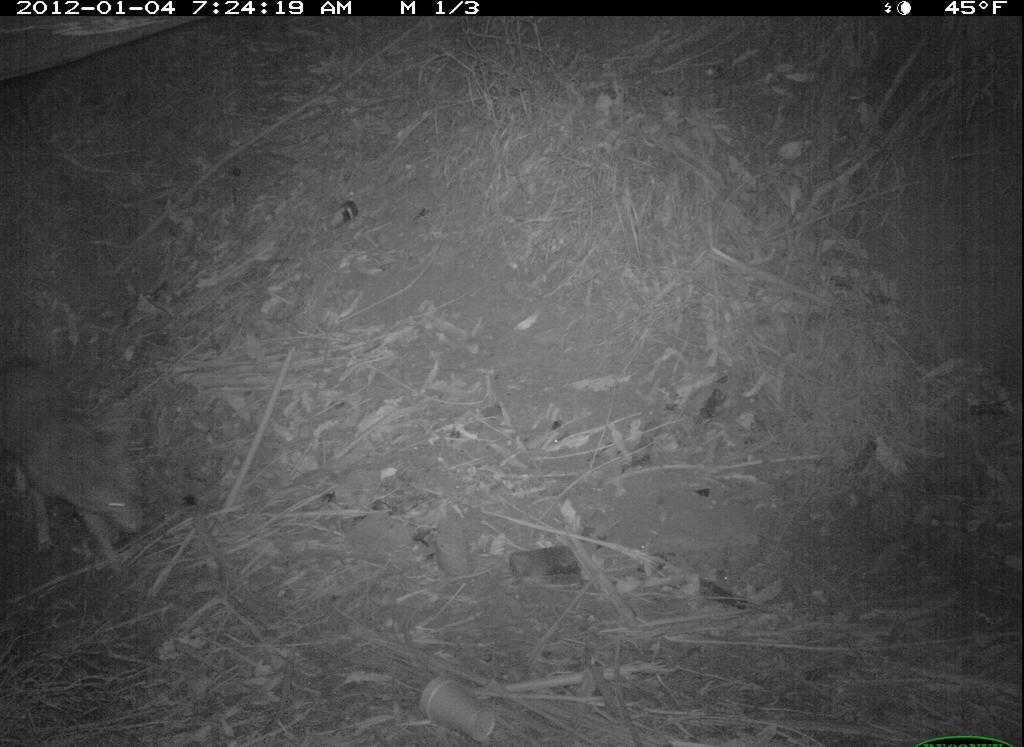coyote: (6, 342, 173, 571)
